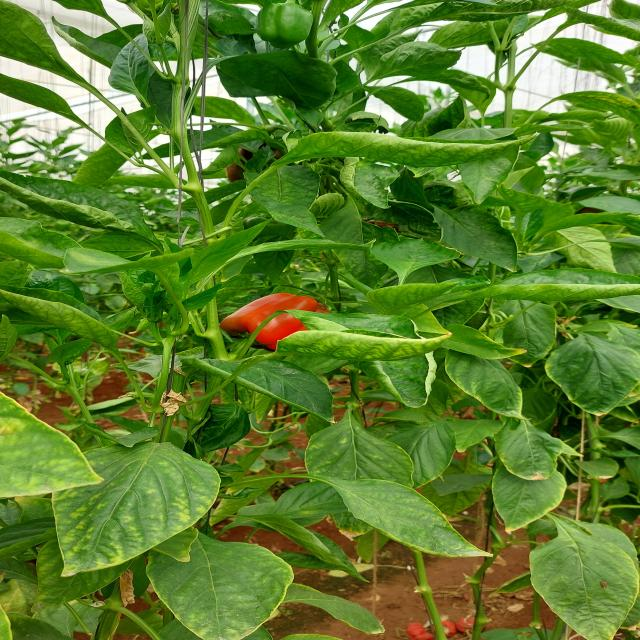Red-Ready-to-Harvest: (226, 292, 326, 352)
